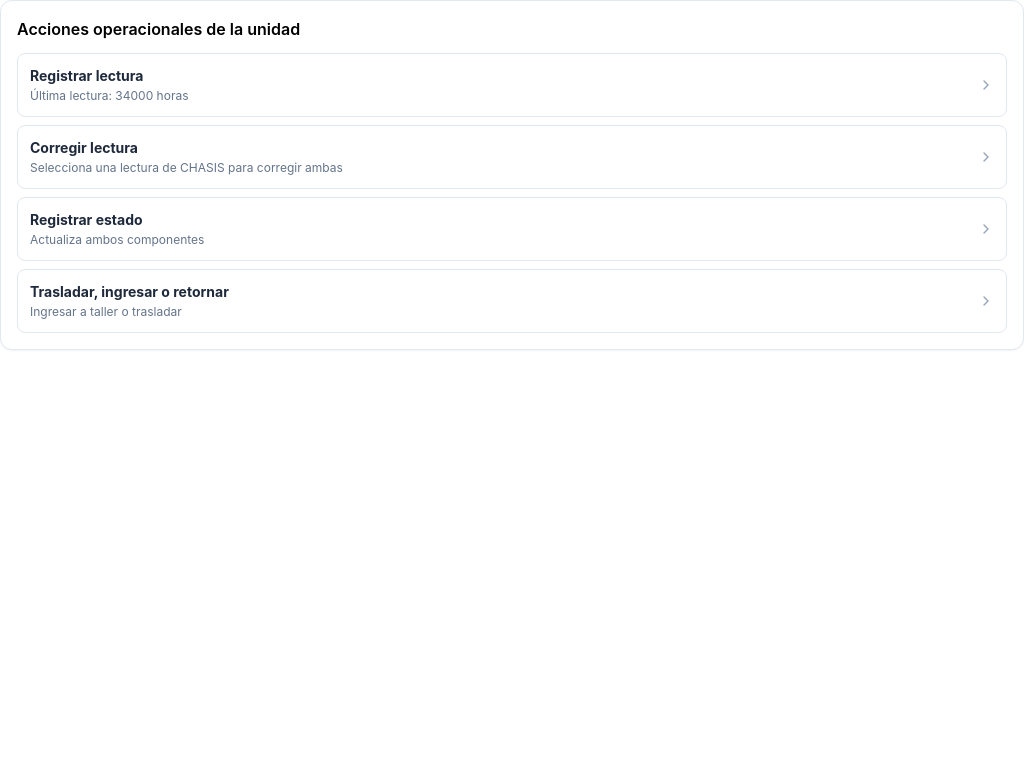
Test: UnitOperationalActions › uses the asset-style reading dialog without date or observations
This screenshot has width=1024, height=768.
Click the button "Registrar lectura Última lectura: 34000 horas" at (87, 76), box [17,53,1007,117]
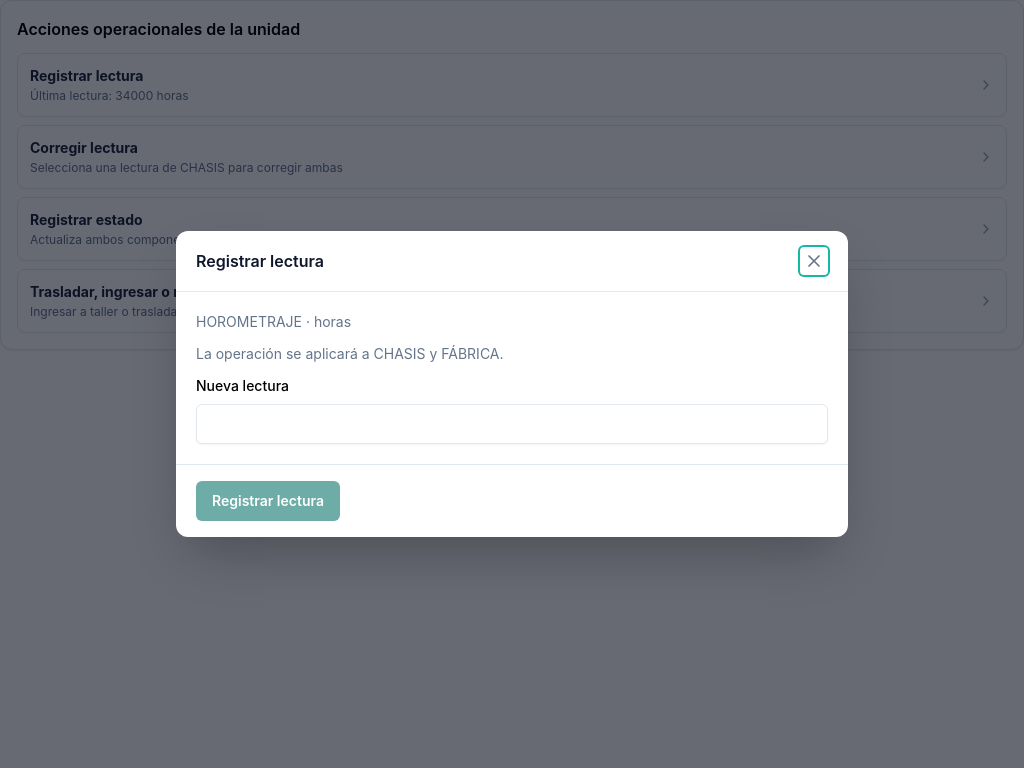
Result: the text "HOROMETRAJE · horas" is shown at [196,313,351,330]
Result: the number field labelled "Nueva lectura" is shown at [196,404,828,444]
